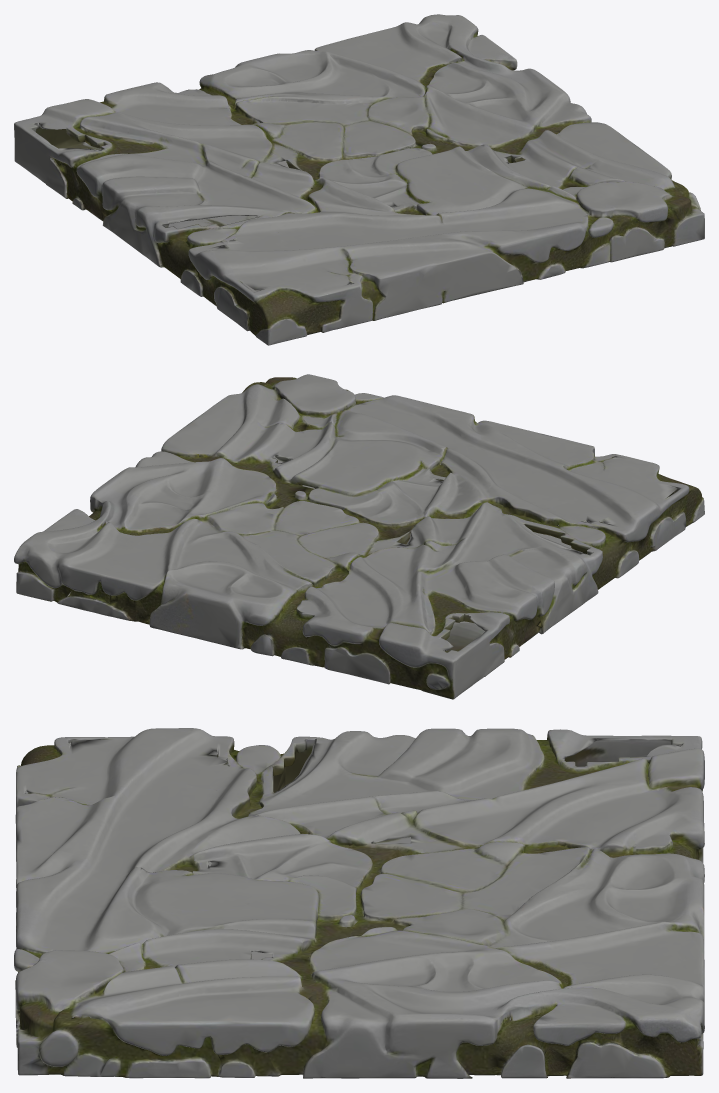
Rendered from cracked-temple-floor-tile-large-optimized.glb.
The picture shows the model from 3 angles, top to bottom: view 1: azimuth 30°, elevation 25°; view 2: azimuth 150°, elevation 25°; view 3: azimuth 270°, elevation 25°; orthographic projection. The views are drawn at different scales.
Visible parts, largest first — view 1: tripo_node_95a0ecc7-570c-42c8-9629-147d467f6422; view 2: tripo_node_95a0ecc7-570c-42c8-9629-147d467f6422; view 3: tripo_node_95a0ecc7-570c-42c8-9629-147d467f6422.
Part boxes in pixels (box(x1,y1,x2,y2)): tripo_node_95a0ecc7-570c-42c8-9629-147d467f6422: box(14, 14, 704, 345); tripo_node_95a0ecc7-570c-42c8-9629-147d467f6422: box(14, 374, 704, 699); tripo_node_95a0ecc7-570c-42c8-9629-147d467f6422: box(14, 728, 704, 1078).
Bounding box in the file's own units: 0.9998 × 0.1043 × 0.9998.
1 material, 1 textured.
